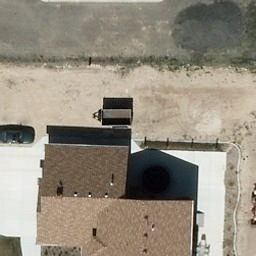car: (0, 128, 36, 146)
